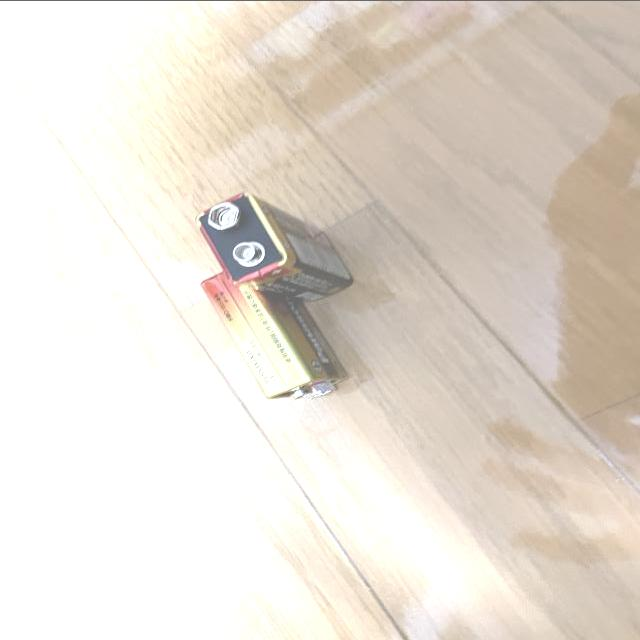9V: (199, 261, 349, 400), (196, 190, 351, 298)
